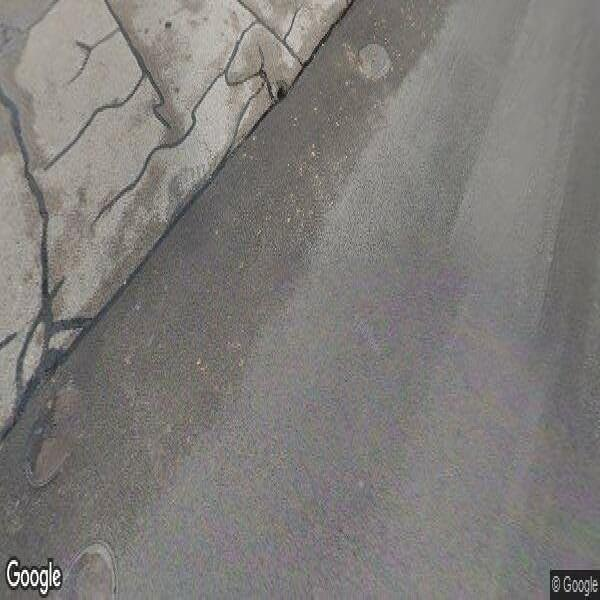manhole: (62, 537, 124, 600)
